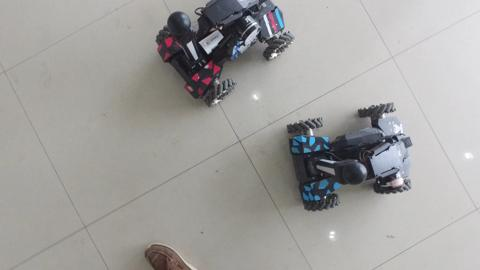chariot: (280, 96, 418, 214), (149, 1, 298, 108)
